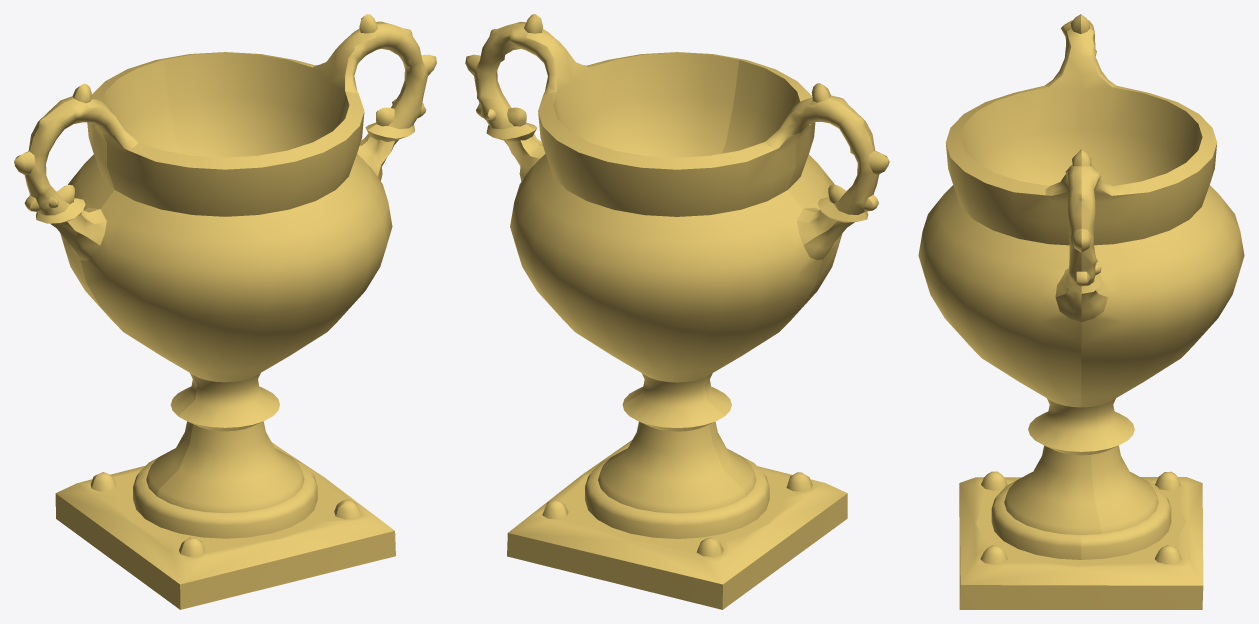
The model's file is SM_Ancient_Urn_1.fbx.
3 views of the same model, side by side, from view 1: azimuth 30°, elevation 25°; view 2: azimuth 150°, elevation 25°; view 3: azimuth 270°, elevation 25° (orthographic). The views are drawn at different scales.
Parts seen in each view (by area): view 1: SM_Ancient_Urn_1; view 2: SM_Ancient_Urn_1; view 3: SM_Ancient_Urn_1.
Part boxes in pixels (left/top/right/bottom): SM_Ancient_Urn_1: left=14, top=14, right=436, bottom=609; SM_Ancient_Urn_1: left=465, top=14, right=889, bottom=609; SM_Ancient_Urn_1: left=918, top=14, right=1244, bottom=609.
Bounding box in the file's own units: 0.5834 × 0.6473 × 0.4006.
